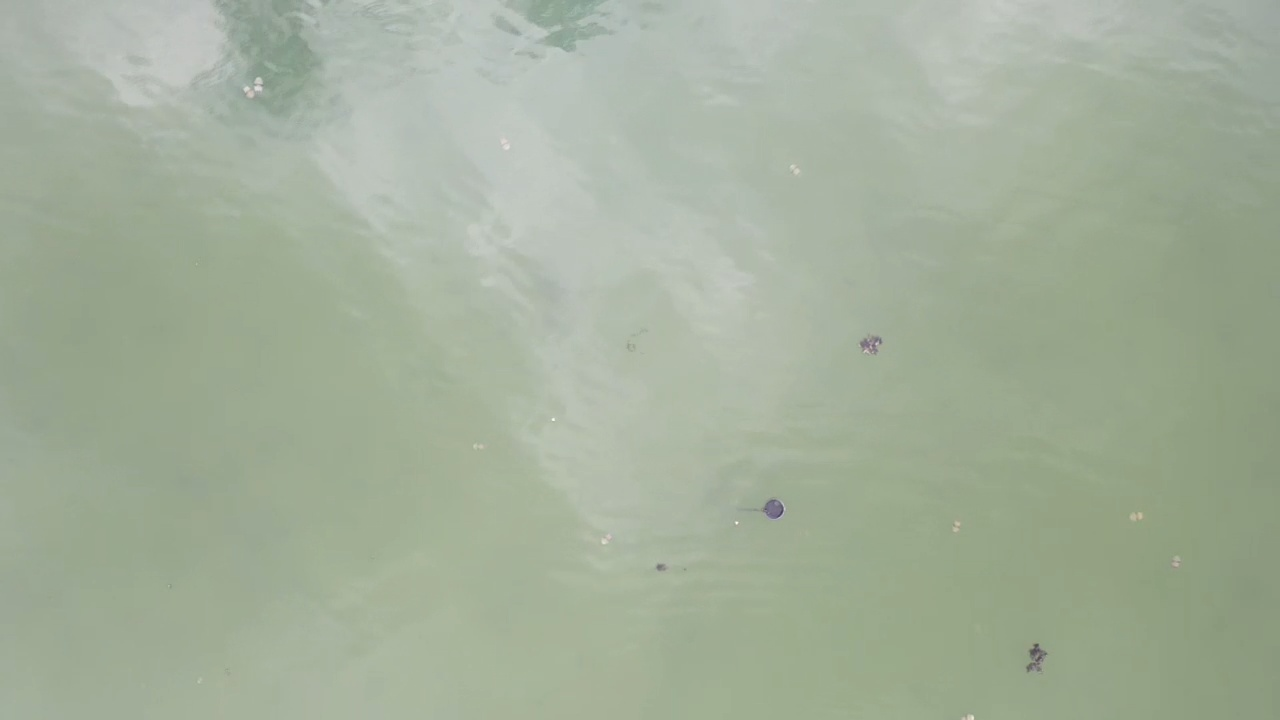meduse: (789, 163, 802, 178), (254, 76, 267, 90), (471, 441, 484, 454), (1129, 511, 1143, 523), (242, 87, 254, 101), (499, 140, 511, 152), (600, 535, 614, 545), (1171, 556, 1182, 568), (950, 523, 962, 533), (962, 713, 977, 720), (194, 678, 204, 686)
